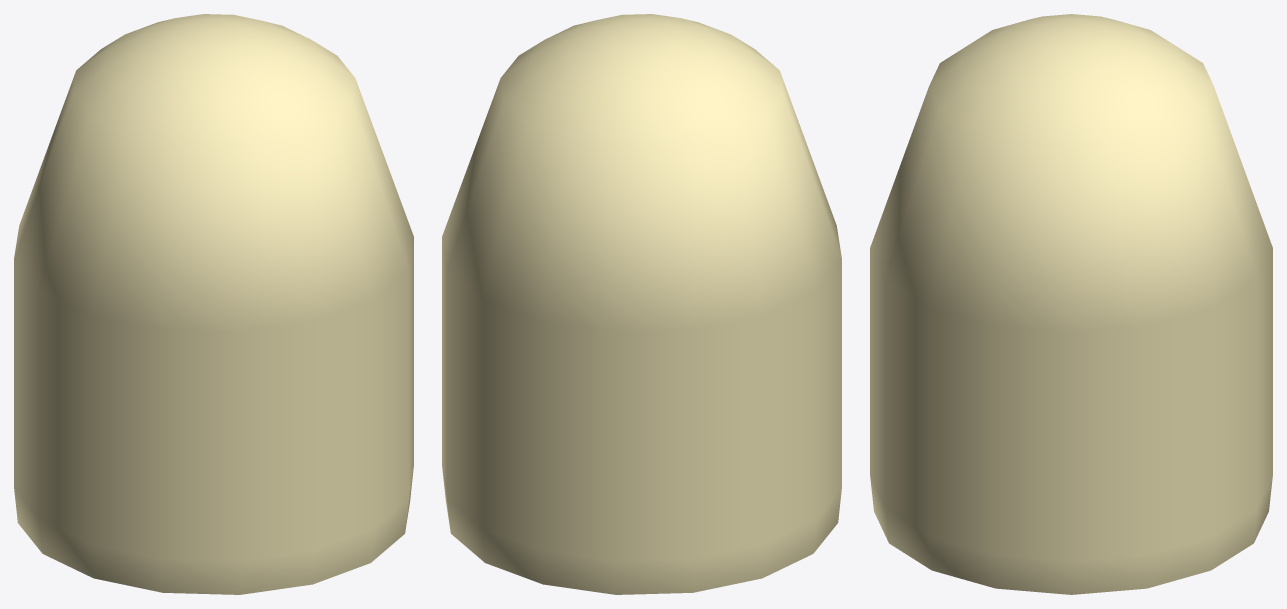
Rendered from chicken-egg.glb.
The picture shows the model from 3 angles, left to right: view 1: azimuth 30°, elevation 25°; view 2: azimuth 150°, elevation 25°; view 3: azimuth 270°, elevation 25°; orthographic projection.
Visible parts, largest first — view 1: chicken-egg-node; view 2: chicken-egg-node; view 3: chicken-egg-node.
Boxes of the visible parts, bbox=[...] form: chicken-egg-node: bbox=[14, 14, 413, 594]; chicken-egg-node: bbox=[442, 14, 841, 594]; chicken-egg-node: bbox=[870, 14, 1272, 594].
Bounding box in the file's own units: 1.4 × 1.84 × 1.4.
